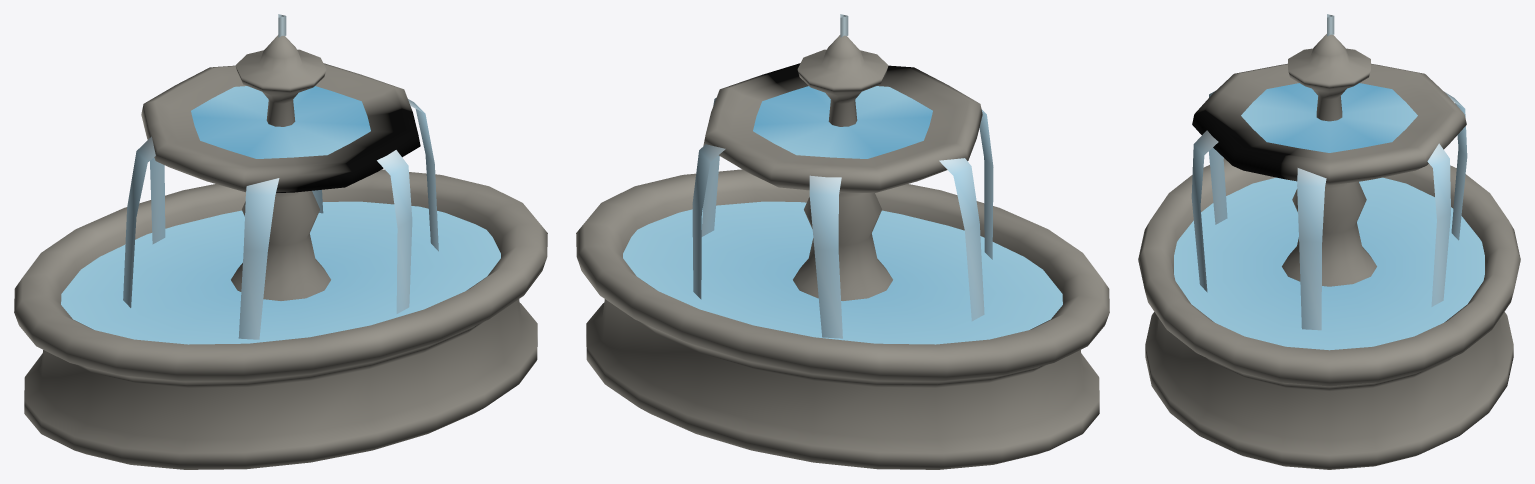
File: furn_dp_fountain.glb
3 views of the same model, side by side, from view 1: azimuth 30°, elevation 25°; view 2: azimuth 150°, elevation 25°; view 3: azimuth 270°, elevation 25° (orthographic). The views are drawn at different scales.
Visible parts, largest first — view 1: furn_dp_fountain_main, furn_dp_fountain_gloss; view 2: furn_dp_fountain_main, furn_dp_fountain_gloss; view 3: furn_dp_fountain_main, furn_dp_fountain_gloss.
Part boxes in pixels (box(x1,y1,x2,y2)): furn_dp_fountain_main: box(14, 35, 547, 469); furn_dp_fountain_gloss: box(61, 14, 500, 344); furn_dp_fountain_main: box(576, 35, 1109, 469); furn_dp_fountain_gloss: box(623, 14, 1062, 344); furn_dp_fountain_main: box(1138, 34, 1520, 469); furn_dp_fountain_gloss: box(1174, 14, 1484, 350).
Bounding box in the file's own units: 1.32 × 0.93 × 0.924.
